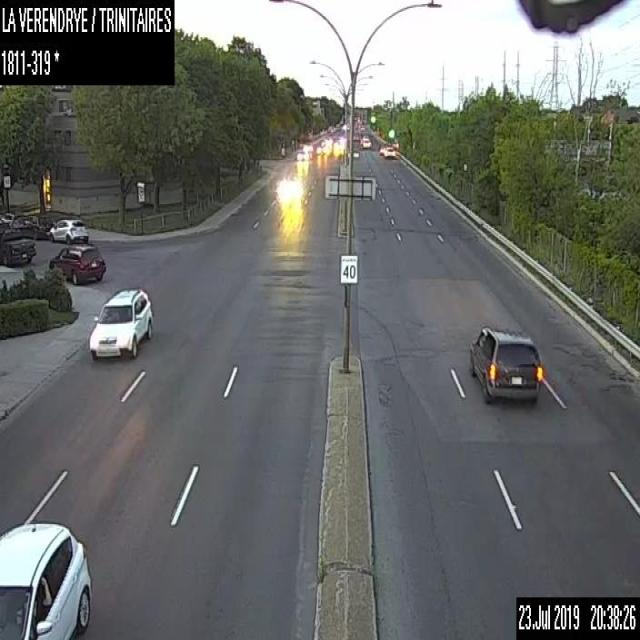vehicle: (0, 518, 92, 638), (469, 327, 542, 401), (88, 285, 153, 359), (48, 241, 106, 284), (0, 227, 35, 265), (48, 218, 88, 243), (19, 215, 54, 239), (0, 210, 27, 232), (384, 146, 396, 158), (361, 137, 370, 148), (317, 144, 326, 153), (296, 150, 304, 158), (379, 144, 385, 153), (352, 133, 358, 139)
